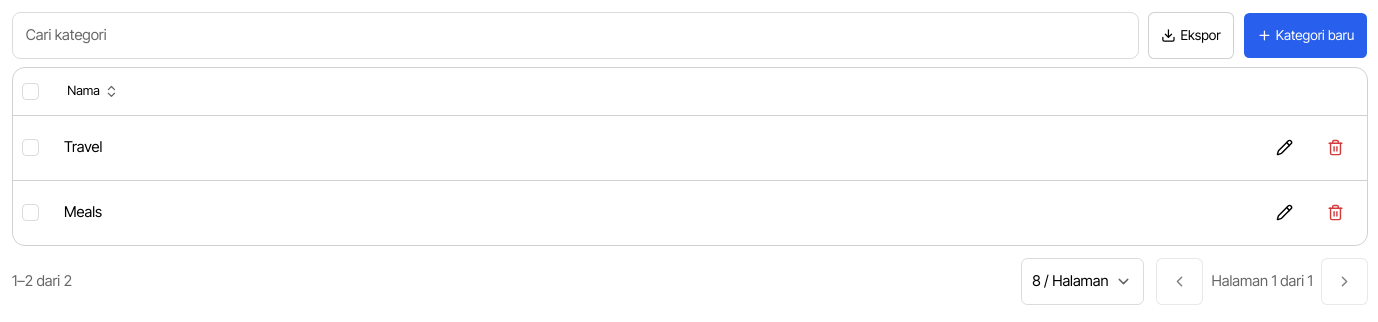
Test: ExpenseCategoriesSection › filters categories by search
Expected: the button "Travel" is shown, [64,137,102,159]
Type "Meals" into the search field with placeholder "Cari kategori".
click(576, 35); type("Meals")  # box [12,12,1139,59]
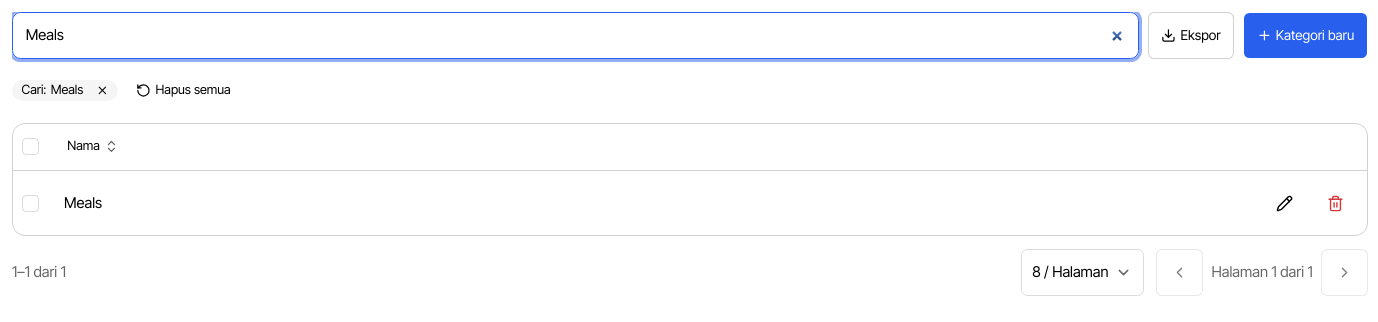
Now the text "Meals" is shown, box [51,82,83,99]
Now the button "Travel" is gone
